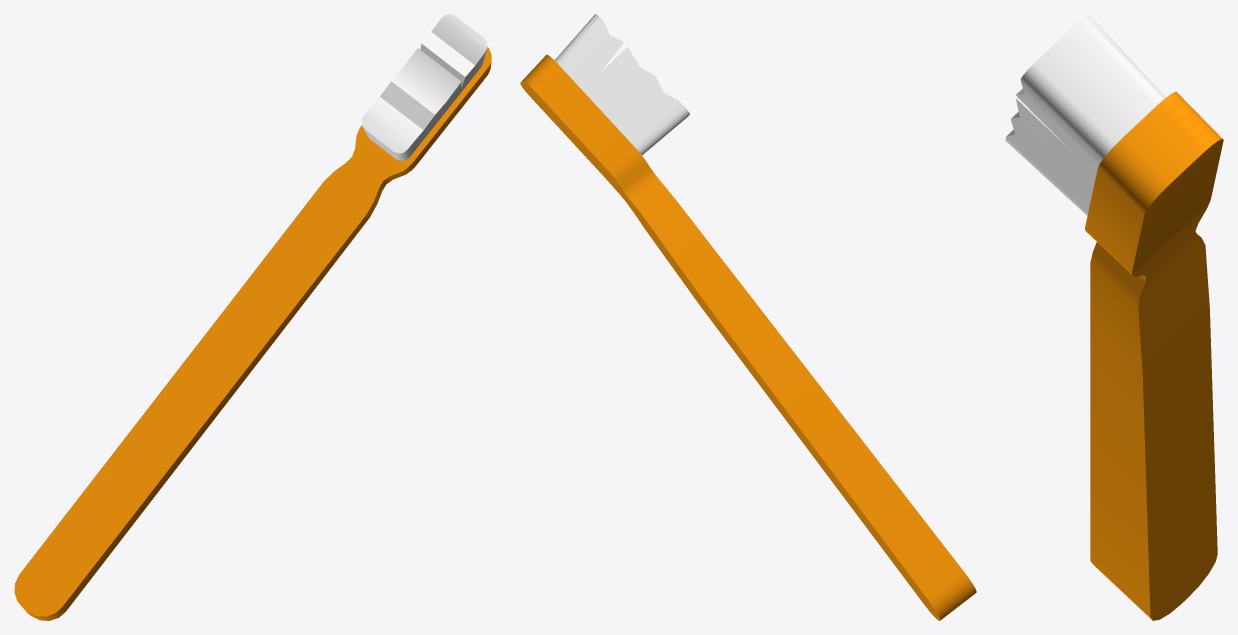
File: toothbrush.gltf
3 renders of one model, left to right at view 1: azimuth 30°, elevation 25°; view 2: azimuth 150°, elevation 25°; view 3: azimuth 270°, elevation 25°, orthographic. The views are drawn at different scales.
Visible parts, largest first — view 1: Cube.1017; view 2: Cube.1017; view 3: Cube.1017.
Boxes of the visible parts, x1=… form: Cube.1017: x1=14, y1=14, x2=491, y2=620; Cube.1017: x1=520, y1=14, x2=976, y2=620; Cube.1017: x1=1005, y1=14, x2=1223, y2=620.
Size of the model in its own units: 2.09 by 2.22 by 0.4733.
Materials: 1 (1 with a texture image).
